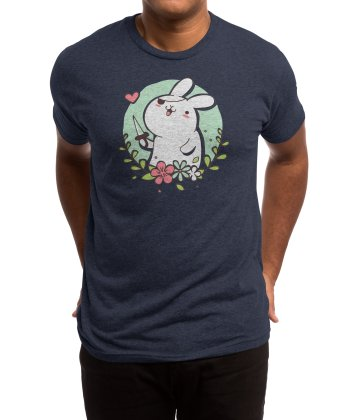design: (115, 75, 233, 195)
